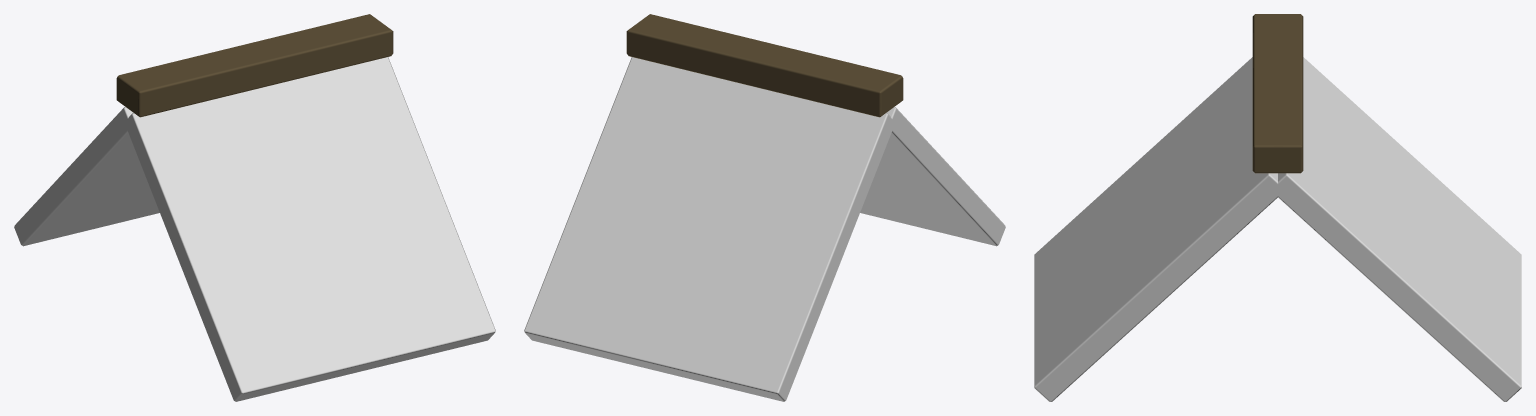
File: village-roof-ridge.3731ec5b.glb
3 views of the same model, side by side, from view 1: azimuth 30°, elevation 25°; view 2: azimuth 150°, elevation 25°; view 3: azimuth 270°, elevation 25° (orthographic). The views are drawn at different scales.
Parts seen in each view (by area): view 1: body; view 2: body; view 3: body.
Part boxes in pixels (left/top/right/bottom): body: left=14, top=14, right=495, bottom=401; body: left=524, top=14, right=1005, bottom=401; body: left=1034, top=14, right=1521, bottom=401.
Size of the model in its own units: 1 by 0.9007 by 1.55.
